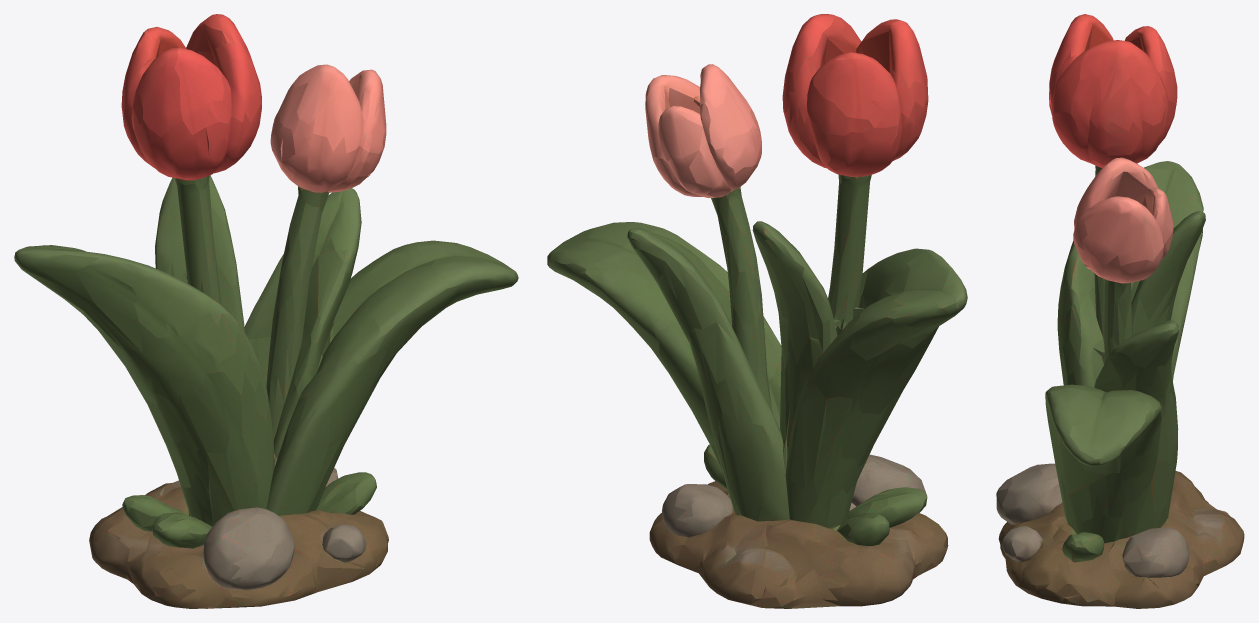
File: model-lounge-tulips-345ab5468f08.glb
3 views of the same model, side by side, from view 1: azimuth 30°, elevation 25°; view 2: azimuth 150°, elevation 25°; view 3: azimuth 270°, elevation 25° (orthographic). The views are drawn at different scales.
Visible parts, largest first — view 1: Mesh_0; view 2: Mesh_0; view 3: Mesh_0.
Boxes of the visible parts, x1,y1,x2,y2 form: Mesh_0: (14, 14, 518, 608); Mesh_0: (547, 14, 967, 608); Mesh_0: (996, 14, 1244, 608).
Size of the model in its own units: 0.9726 by 1.1 by 0.4922.
Materials: 1 (1 with a texture image).
